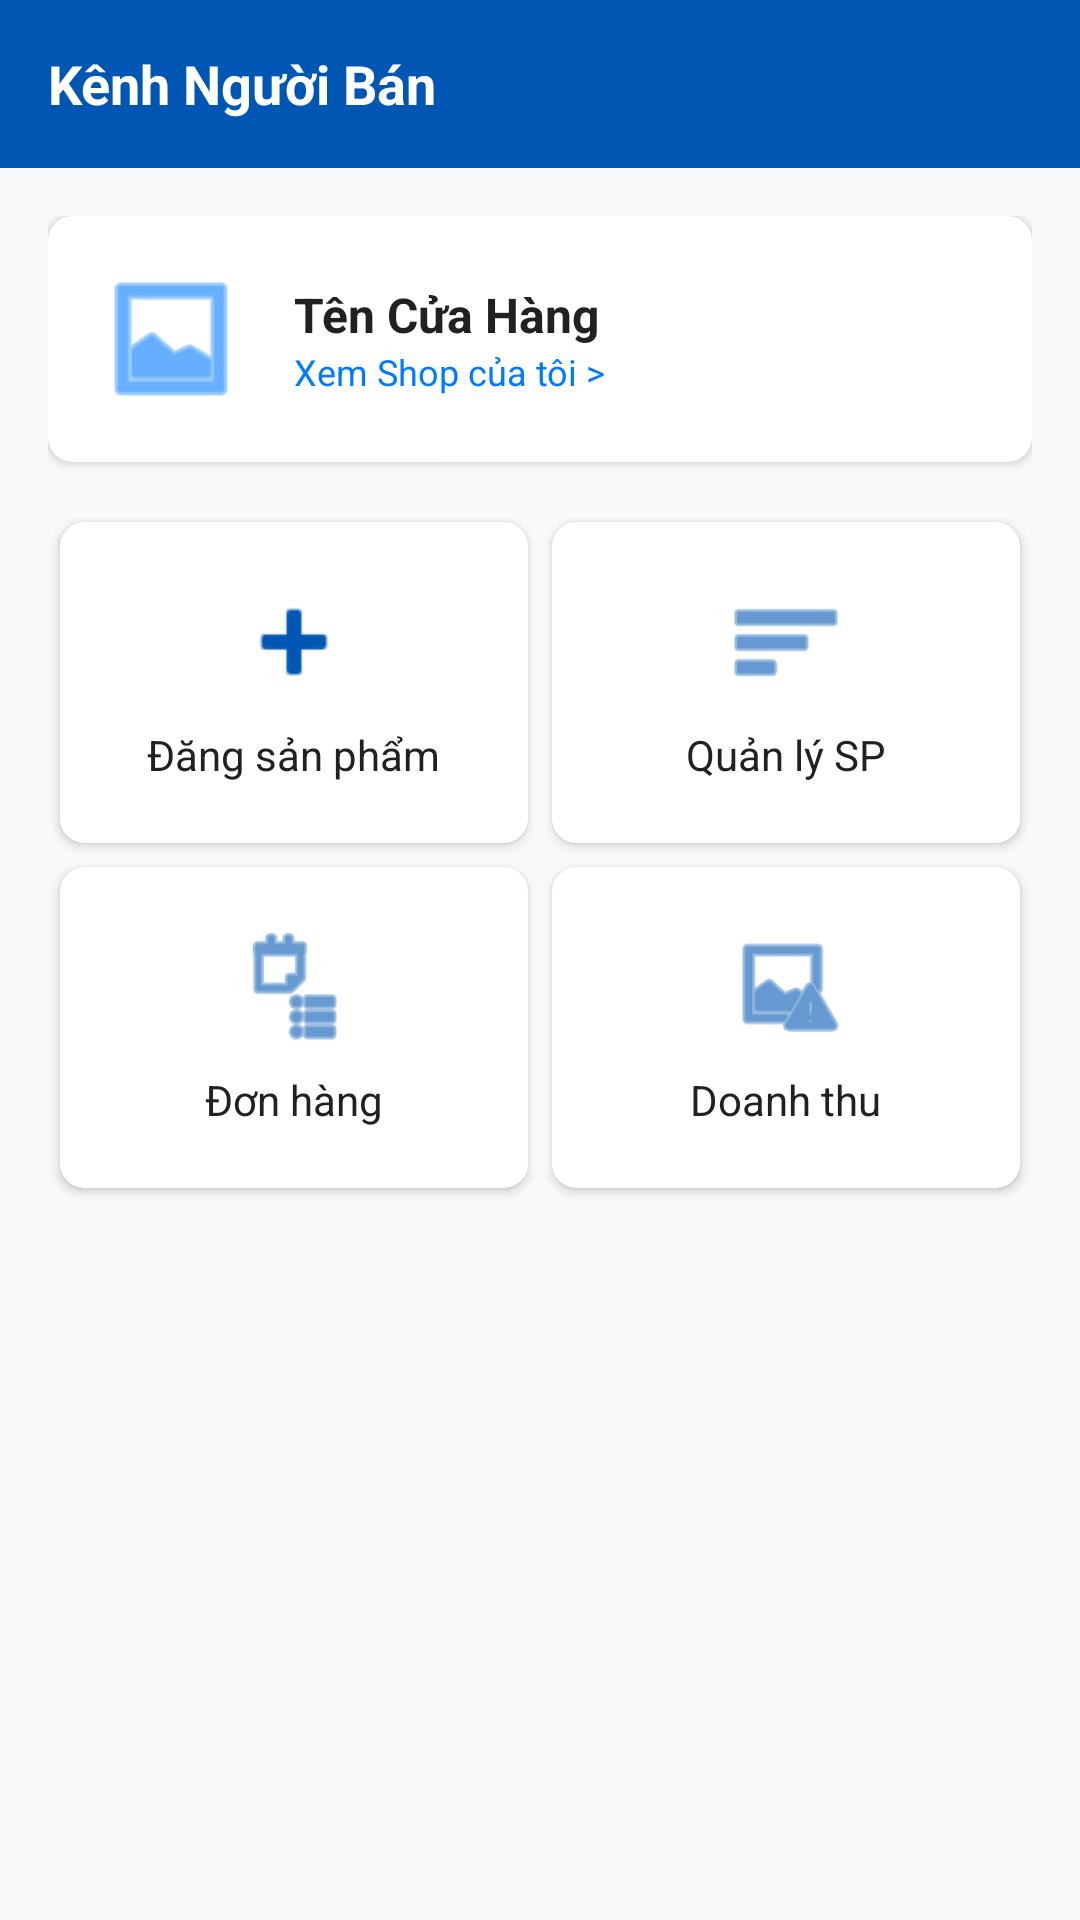

Locate icon controls on the screen. Image size 1080x1920, boxes as [left=x1, top=y1, right=x2, bottom=y2].
add: [left=260, top=608, right=328, bottom=676]
agenda: [left=252, top=933, right=337, bottom=1040]
gallery: [left=114, top=282, right=228, bottom=396]
sort by size: [left=734, top=609, right=838, bottom=676]
